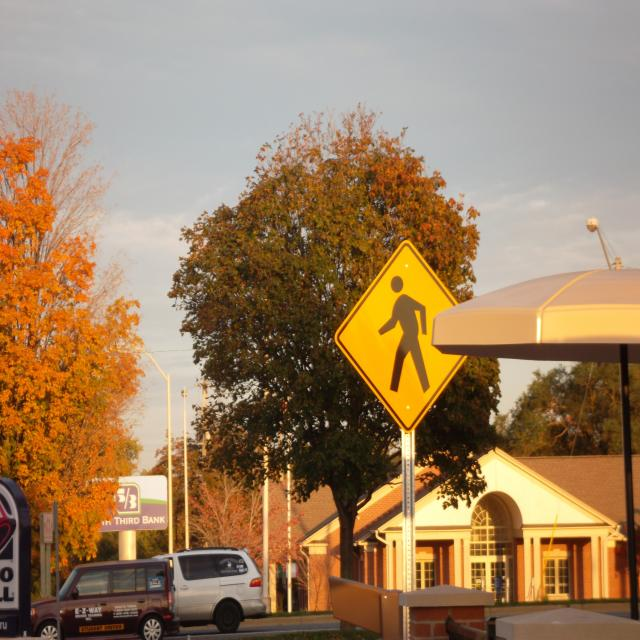warning: (331, 235, 476, 434)
